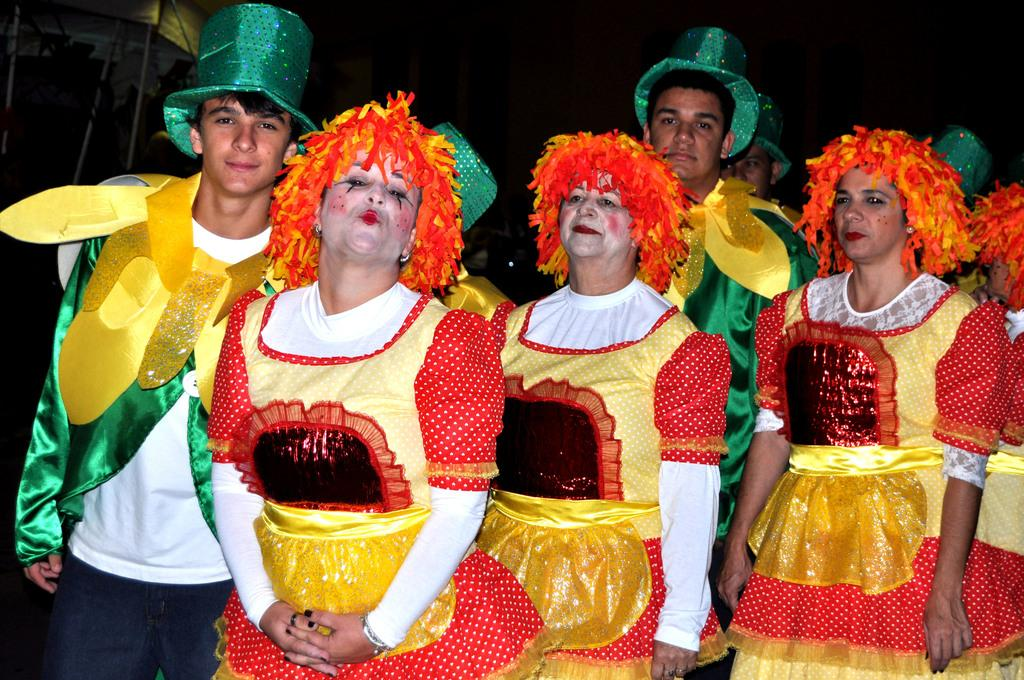Hat: (164, 3, 319, 162), (634, 25, 762, 160), (426, 123, 496, 234), (726, 93, 794, 188), (932, 128, 992, 207)
